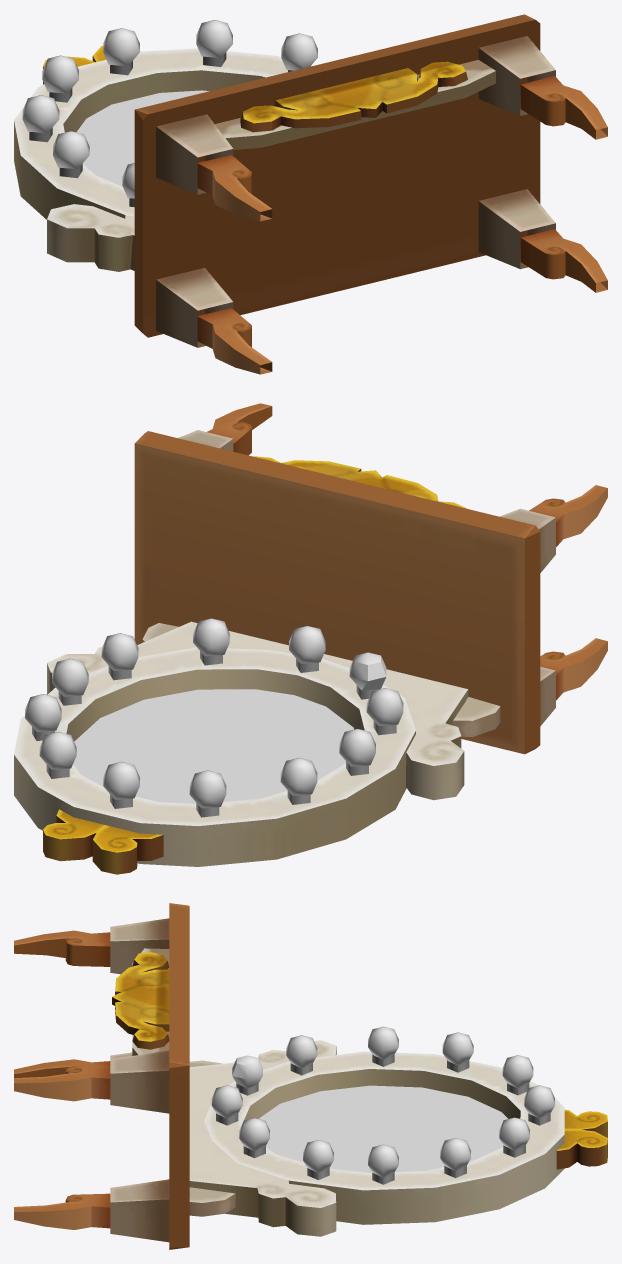
File: DressingTable.fbx
3 renders of one model, top to bottom at view 1: azimuth 30°, elevation 25°; view 2: azimuth 150°, elevation 25°; view 3: azimuth 270°, elevation 25°, orthographic. The views are drawn at different scales.
Visible parts, largest first — view 1: DressingTable, DressingTableLightsAndMirror; view 2: DressingTable, DressingTableLightsAndMirror; view 3: DressingTable, DressingTableLightsAndMirror.
Part boxes in pixels (x1,y1,x2,y2): DressingTable: (14,14,607,374); DressingTableLightsAndMirror: (22,20,317,198); DressingTable: (14,403,607,874); DressingTableLightsAndMirror: (25,618,403,808); DressingTable: (14,903,607,1249); DressingTableLightsAndMirror: (211,1026,554,1177).
Size of the model in its own units: 86.37 by 45.06 by 129.
